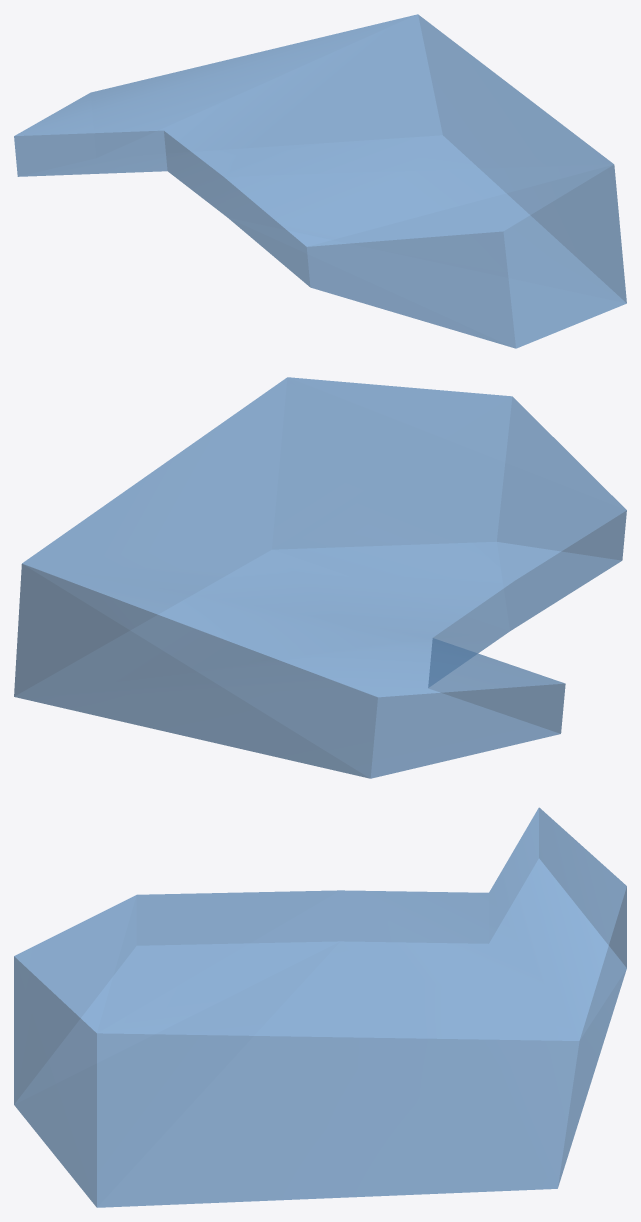
The model's file is IceBridgeP05.FBX.
3 renders of one model, top to bottom at view 1: azimuth 30°, elevation 25°; view 2: azimuth 150°, elevation 25°; view 3: azimuth 270°, elevation 25°, orthographic. The views are drawn at different scales.
Parts seen in each view (by area): view 1: IceBridgeP05; view 2: IceBridgeP05; view 3: IceBridgeP05.
Part boxes in pixels (box(x1,y1,x2,y2)): IceBridgeP05: box(14, 14, 626, 348); IceBridgeP05: box(14, 377, 626, 778); IceBridgeP05: box(14, 807, 626, 1207).
Bounding box in the file's own units: 87.57 × 27.24 × 90.51.
